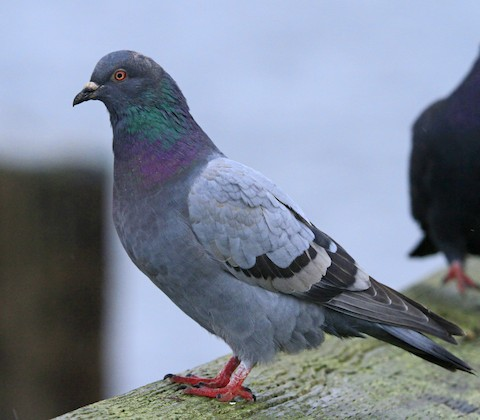pigeon: (66, 49, 476, 405)
